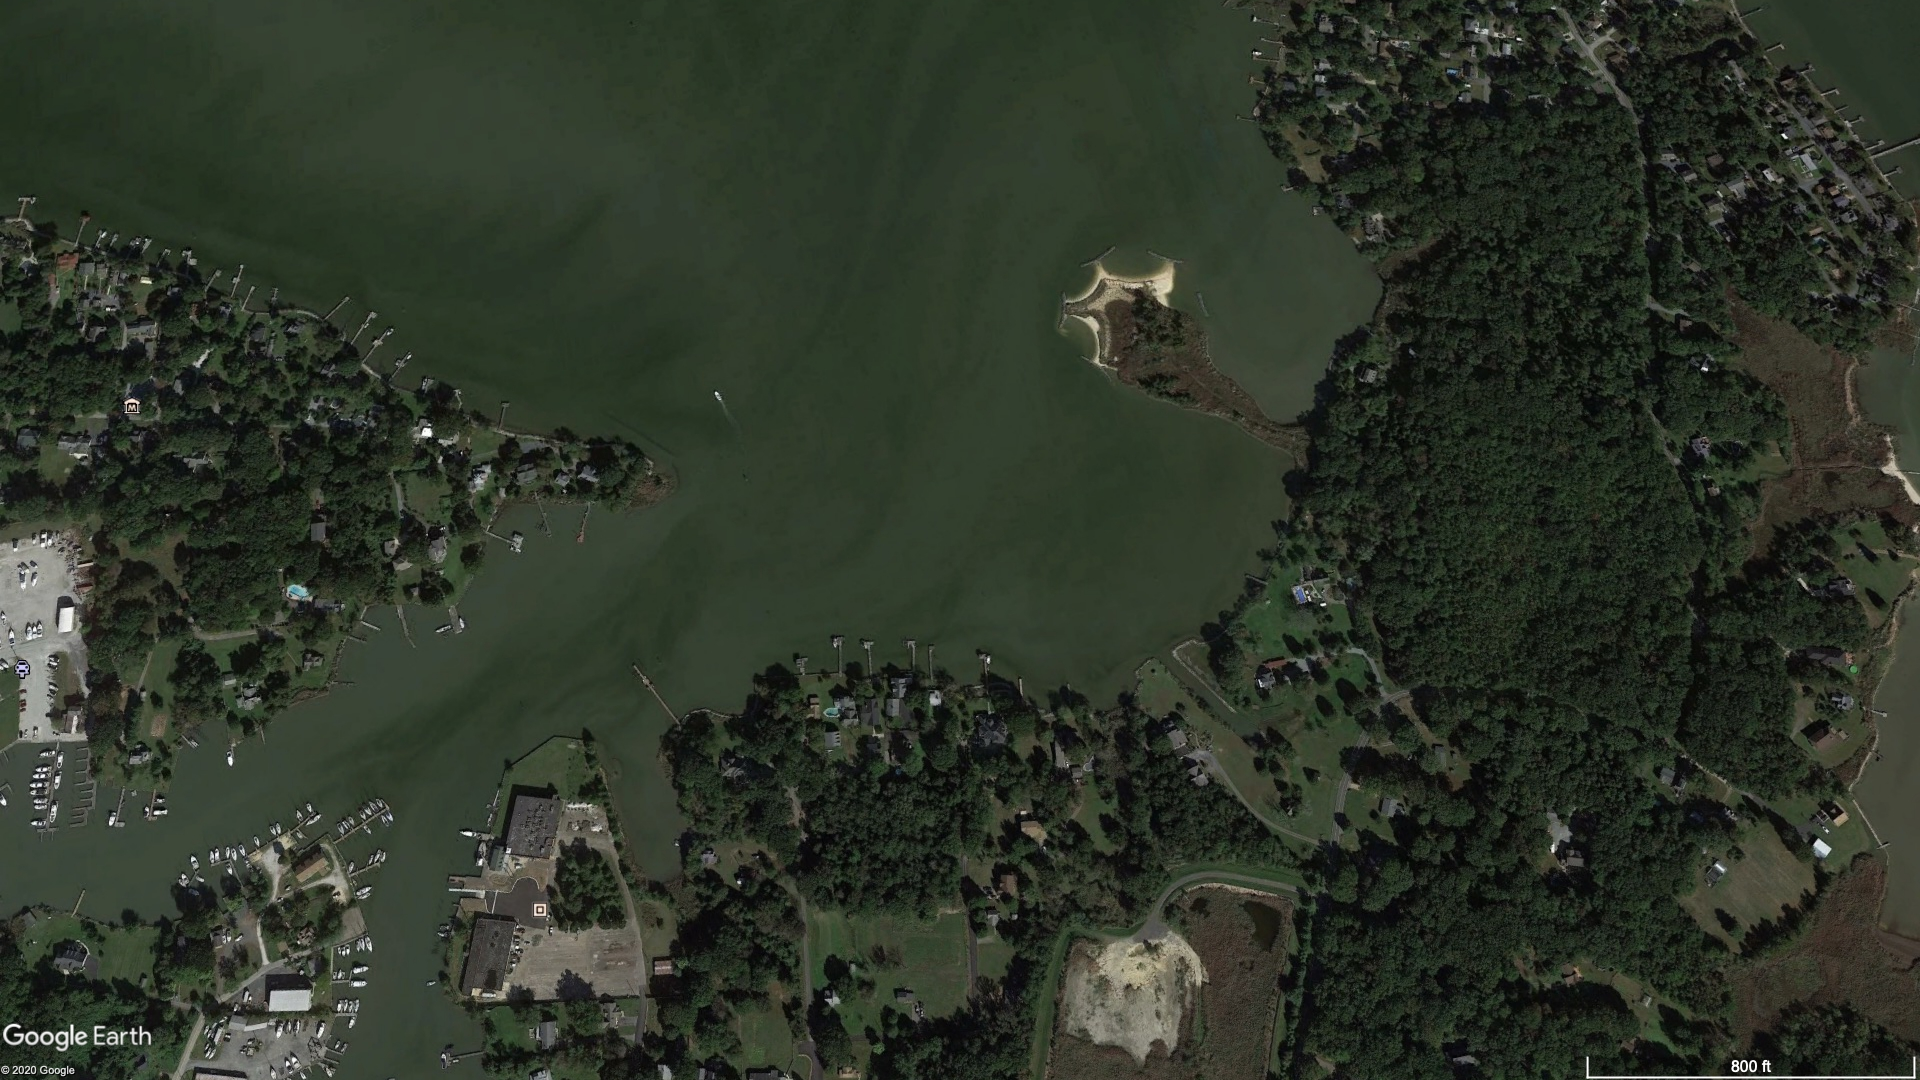boat: (712, 392, 724, 402)
